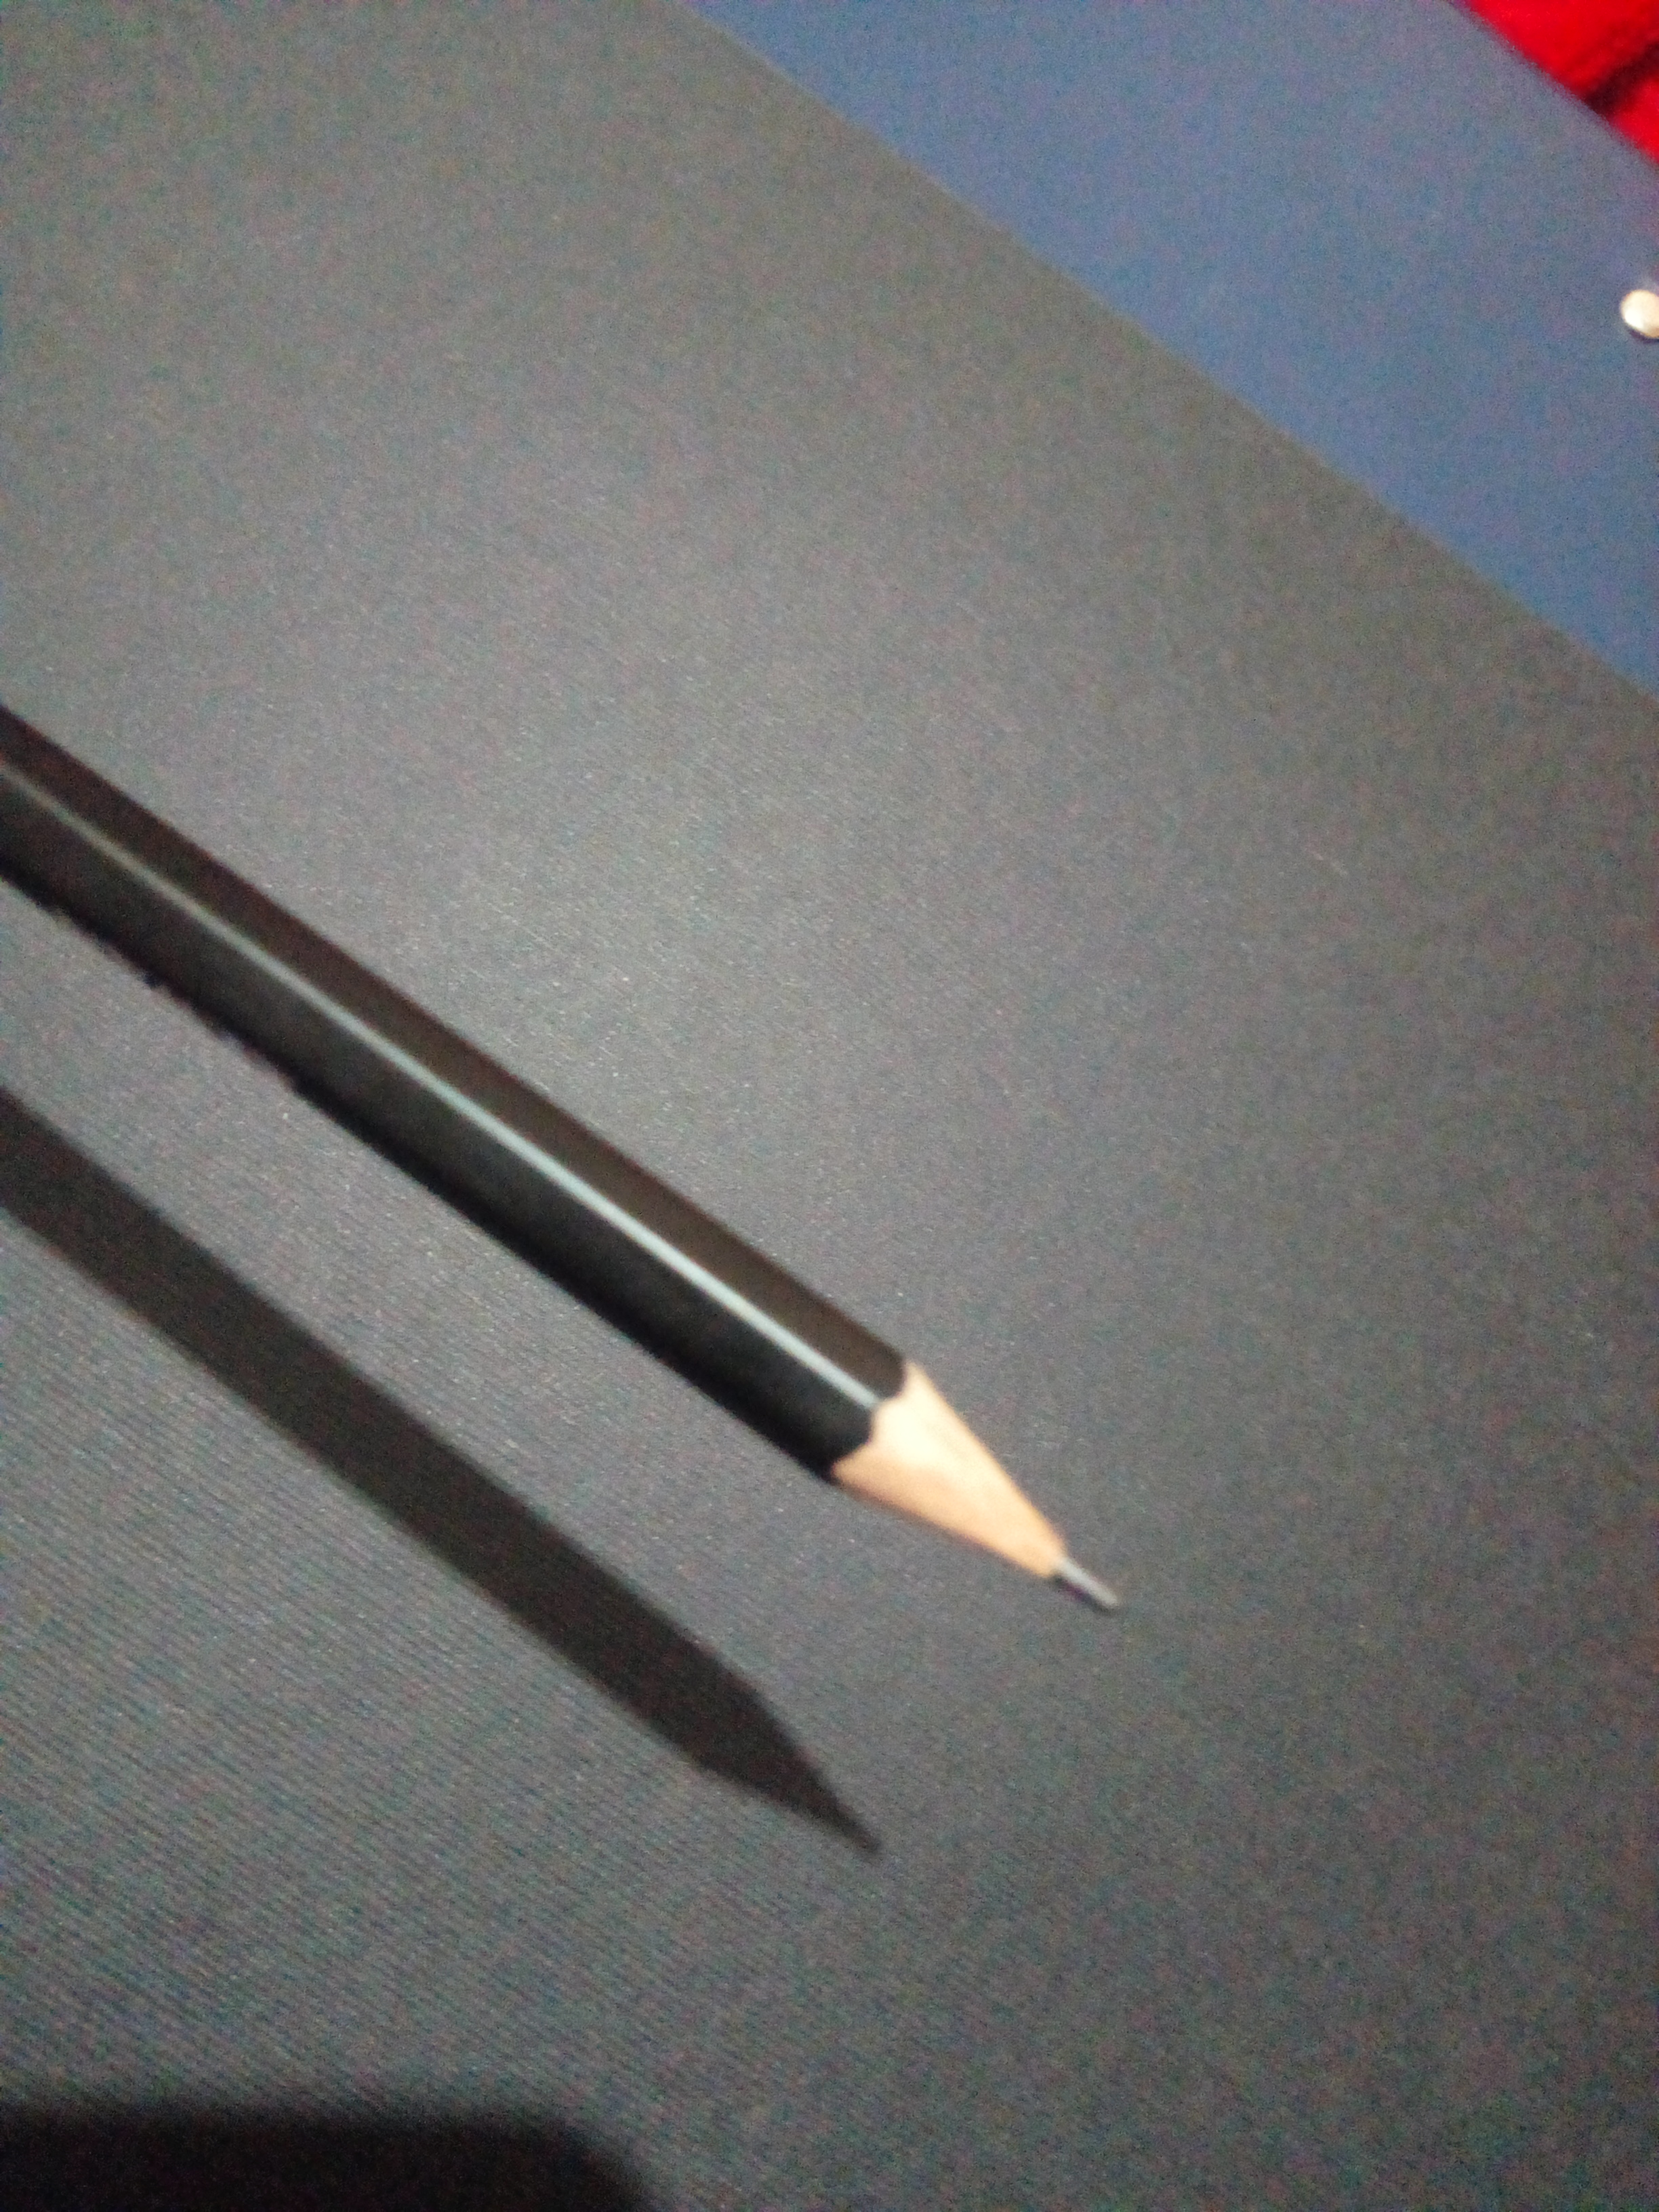pen_tip: (725, 1212, 1276, 1716)
